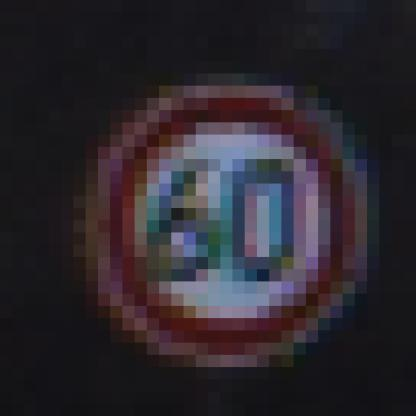Speed Limit 60: (100, 90, 350, 353)
